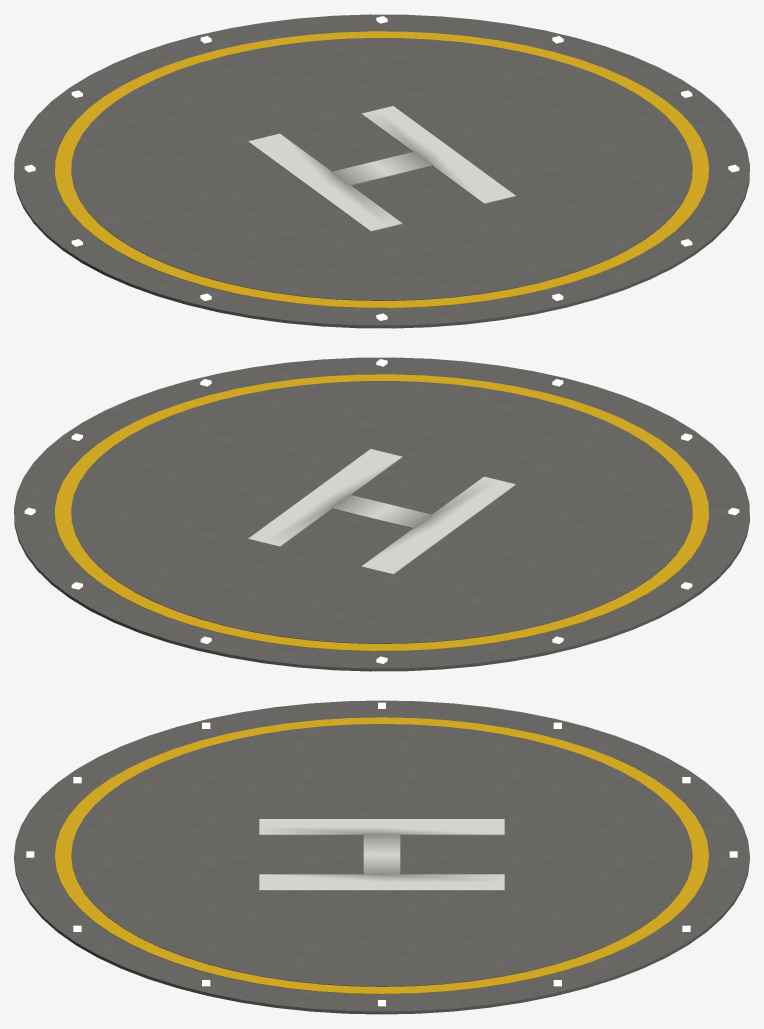
Rendered from roof_helipad.glb.
The picture shows the model from 3 angles, top to bottom: view 1: azimuth 30°, elevation 25°; view 2: azimuth 150°, elevation 25°; view 3: azimuth 270°, elevation 25°; orthographic projection.
Parts seen in each view (by area): view 1: roof_helipad_concrete_dark, ring, roof_helipad_paint_white, roof_helipad_light_head; view 2: roof_helipad_concrete_dark, ring, roof_helipad_paint_white, roof_helipad_light_head; view 3: roof_helipad_concrete_dark, ring, roof_helipad_paint_white, roof_helipad_light_head.
Boxes of the visible parts, x1=… form: roof_helipad_concrete_dark: x1=14, y1=14, x2=749, y2=328; ring: x1=55, y1=31, x2=708, y2=308; roof_helipad_paint_white: x1=248, y1=106, x2=515, y2=231; roof_helipad_light_head: x1=24, y1=16, x2=739, y2=320; roof_helipad_concrete_dark: x1=14, y1=357, x2=749, y2=671; ring: x1=55, y1=374, x2=708, y2=651; roof_helipad_paint_white: x1=248, y1=449, x2=515, y2=574; roof_helipad_light_head: x1=24, y1=359, x2=739, y2=663; roof_helipad_concrete_dark: x1=14, y1=700, x2=749, y2=1014; ring: x1=55, y1=717, x2=708, y2=994; roof_helipad_paint_white: x1=259, y1=819, x2=504, y2=890; roof_helipad_light_head: x1=26, y1=702, x2=737, y2=1006.
Size of what is drawn, in the model's own units: 18 by 0.16 by 18.
Materials: 4 (3 with a texture image).
